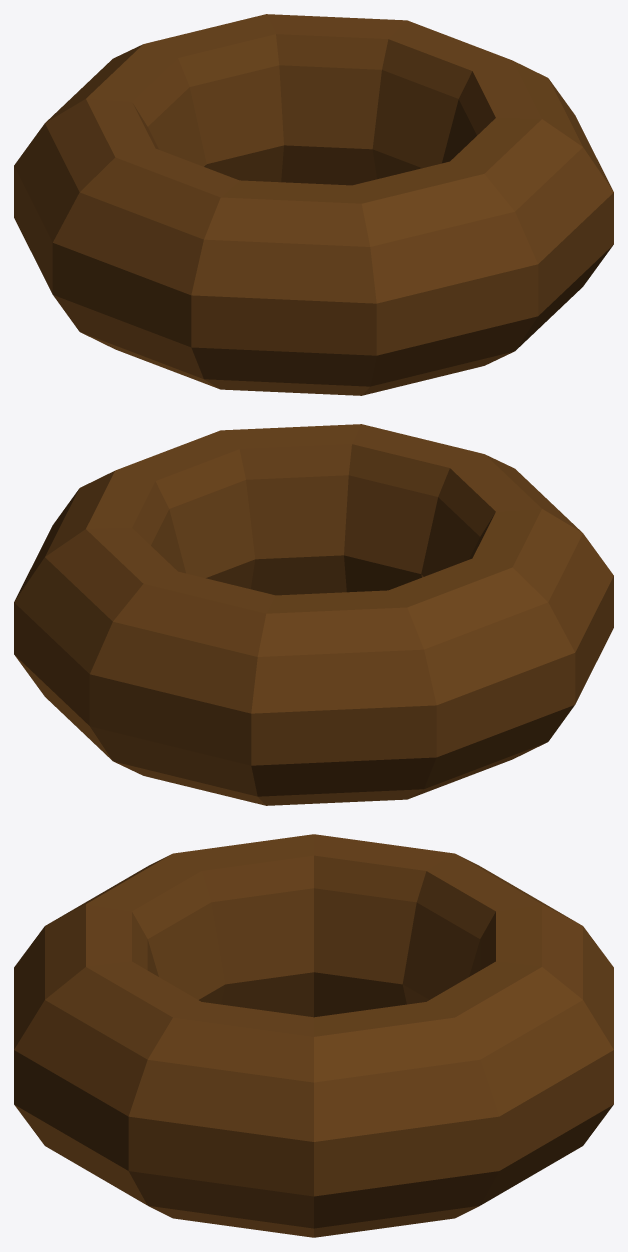
File: Cereals Chunks Model 2.fbx
The picture shows the model from 3 angles, top to bottom: view 1: azimuth 30°, elevation 25°; view 2: azimuth 150°, elevation 25°; view 3: azimuth 270°, elevation 25°; orthographic projection. The views are drawn at different scales.
Parts seen in each view (by area): view 1: pTorus1; view 2: pTorus1; view 3: pTorus1.
Part boxes in pixels (left/top/right/bottom): pTorus1: left=14, top=14, right=613, bottom=395; pTorus1: left=14, top=424, right=613, bottom=805; pTorus1: left=14, top=834, right=613, bottom=1237.
Size of the model in its own units: 0.5624 by 0.1976 by 0.5348.
